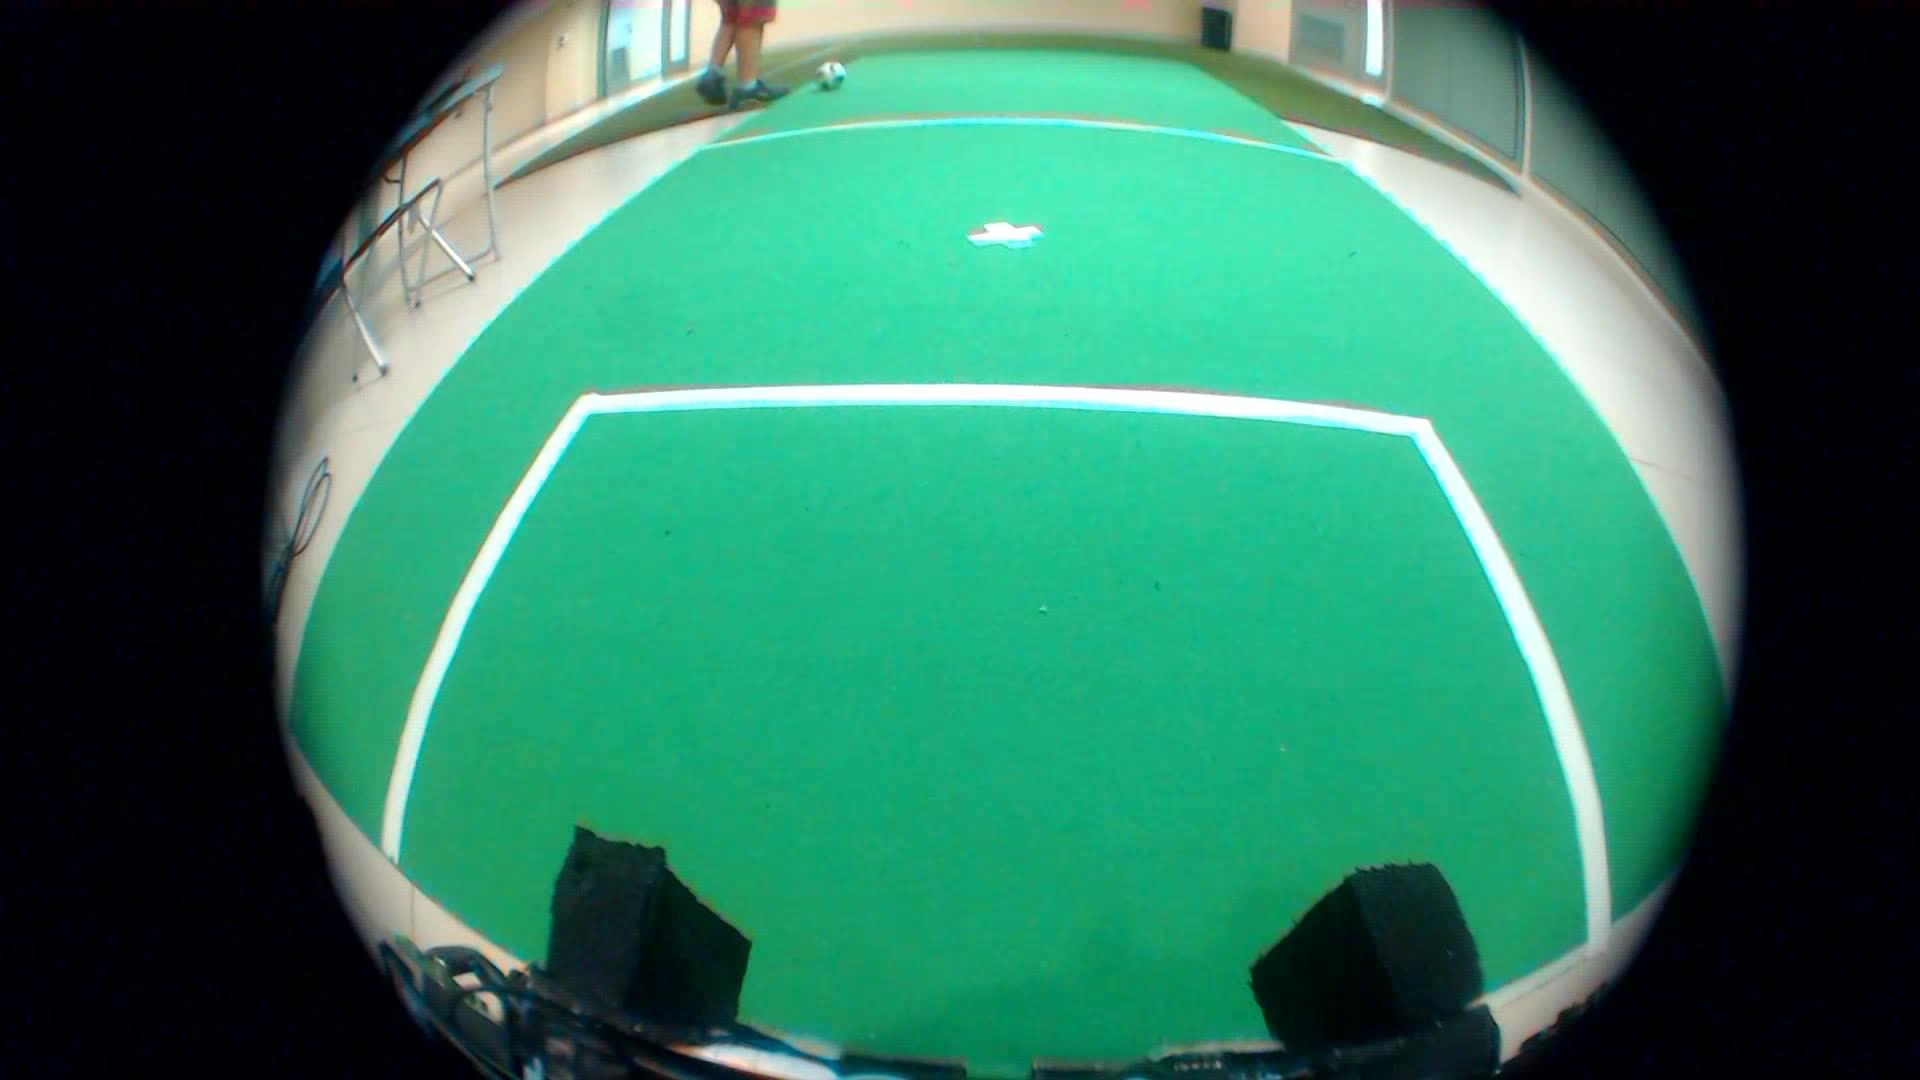ball: (804, 51, 848, 95)
